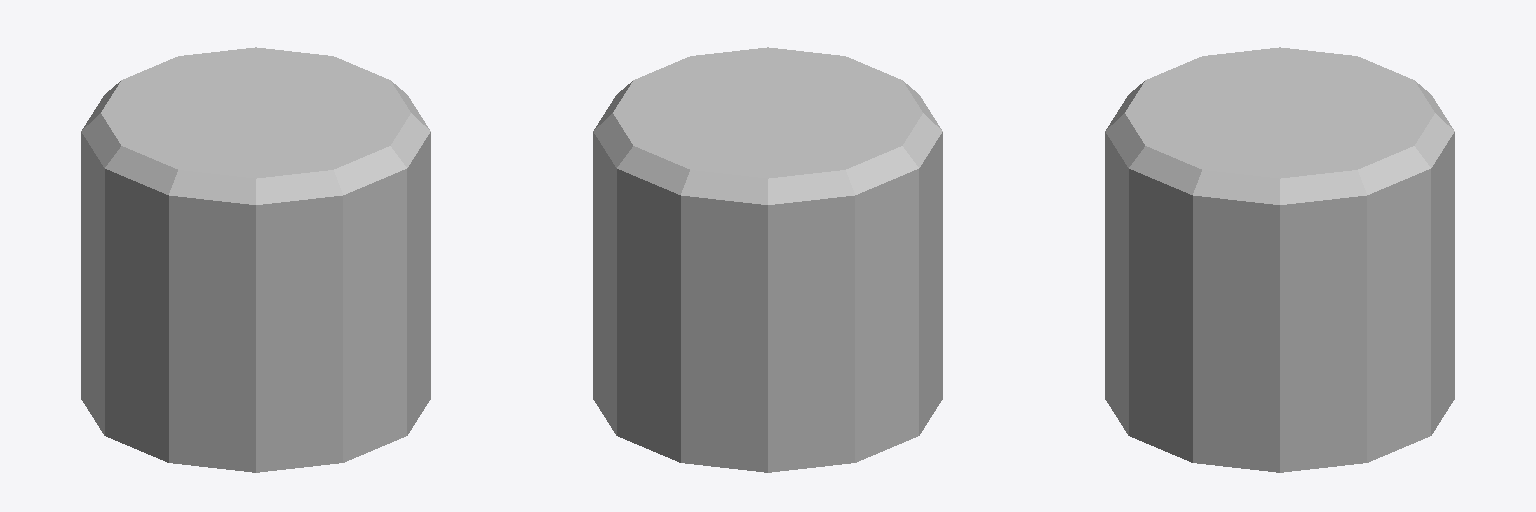
File: silo_colonly.obj
3 views of the same model, side by side, from view 1: azimuth 30°, elevation 25°; view 2: azimuth 150°, elevation 25°; view 3: azimuth 270°, elevation 25° (orthographic).
Visible parts, largest first — view 1: CollisionMesh_Plane; view 2: CollisionMesh_Plane; view 3: CollisionMesh_Plane.
Part boxes in pixels (bbox=[...]): CollisionMesh_Plane: bbox=[81, 47, 430, 472]; CollisionMesh_Plane: bbox=[593, 47, 942, 472]; CollisionMesh_Plane: bbox=[1105, 47, 1454, 472].
Bounding box in the file's own units: 6 × 5.41 × 6.